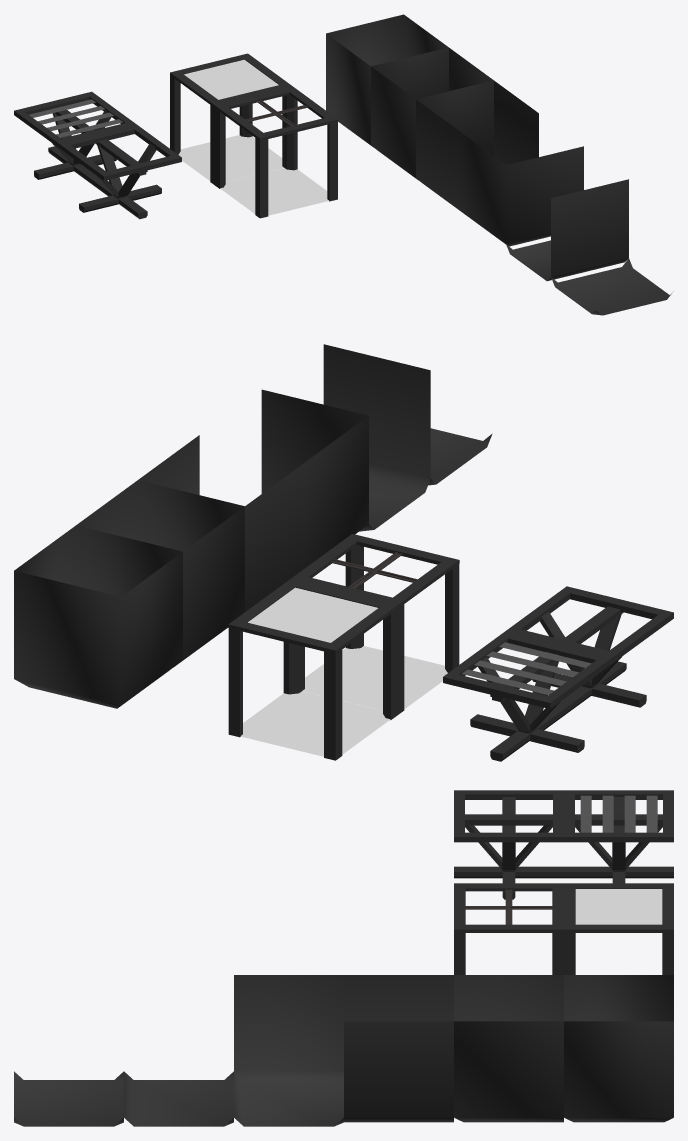
The model's file is LatticeAndPlenum.fbx.
3 renders of one model, top to bottom at view 1: azimuth 30°, elevation 25°; view 2: azimuth 150°, elevation 25°; view 3: azimuth 270°, elevation 25°, orthographic. The views are drawn at different scales.
Parts seen in each view (by area): view 1: Plenum Cover O, Plenum Cover L, Plenum Open, Plenum Cover C, Plenum Closed, Plenum Cover T, Plenum Cover I, Lattice, Catwalk, Plenum Cover X; view 2: Plenum Cover O, Plenum Closed, Plenum Cover C, Plenum Cover L, Plenum Cover T, Plenum Open, Catwalk, Plenum Cover I, Lattice, Plenum Cover X; view 3: Plenum Cover L, Plenum Cover I, Plenum Cover C, Plenum Cover O, Catwalk, Lattice, Plenum Closed, Plenum Cover X, Plenum Cover T, Plenum Open.
Boxes of the visible parts, bbox=[...] form: Plenum Cover O: bbox=[326, 14, 448, 147]; Plenum Cover L: bbox=[461, 132, 583, 246]; Plenum Open: bbox=[215, 86, 337, 218]; Plenum Cover C: bbox=[371, 48, 493, 180]; Plenum Closed: bbox=[170, 53, 292, 185]; Plenum Cover T: bbox=[506, 179, 628, 281]; Plenum Cover I: bbox=[416, 80, 538, 214]; Lattice: bbox=[59, 124, 181, 219]; Catwalk: bbox=[14, 91, 136, 185]; Plenum Cover X: bbox=[551, 258, 673, 315]; Plenum Cover O: bbox=[14, 525, 182, 708]; Plenum Closed: bbox=[228, 579, 397, 760]; Plenum Cover C: bbox=[76, 480, 244, 667]; Plenum Cover L: bbox=[261, 389, 368, 566]; Plenum Cover T: bbox=[323, 344, 430, 531]; Plenum Open: bbox=[291, 534, 459, 714]; Catwalk: bbox=[443, 631, 611, 761]; Plenum Cover I: bbox=[138, 435, 306, 611]; Lattice: bbox=[505, 586, 673, 715]; Plenum Cover X: bbox=[428, 428, 492, 485]; Plenum Cover L: bbox=[234, 975, 343, 1126]; Plenum Cover I: bbox=[344, 975, 453, 1122]; Plenum Cover C: bbox=[454, 975, 563, 1122]; Plenum Cover O: bbox=[564, 975, 673, 1122]; Catwalk: bbox=[564, 790, 673, 883]; Lattice: bbox=[454, 790, 563, 899]; Plenum Closed: bbox=[564, 883, 673, 974]; Plenum Cover X: bbox=[14, 1071, 123, 1126]; Plenum Cover T: bbox=[124, 1071, 233, 1126]; Plenum Open: bbox=[454, 883, 563, 974].
Bounding box in the file's own units: 5 × 1.05 × 6.
